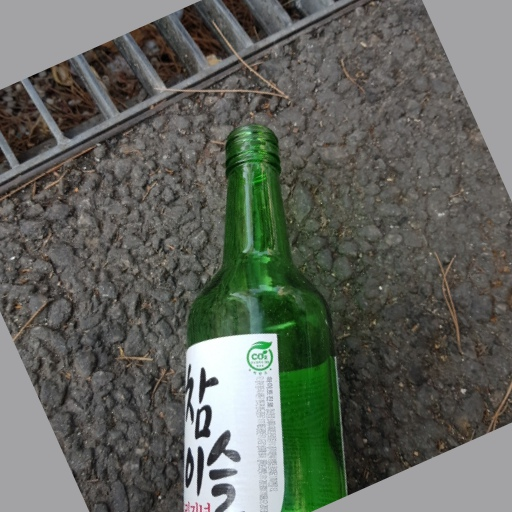Glass_0: (179, 121, 356, 512)
